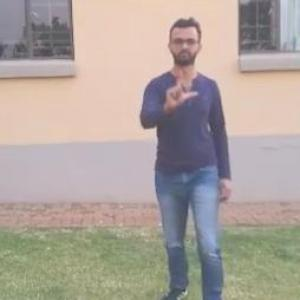land_hand: (164, 59, 201, 110)
